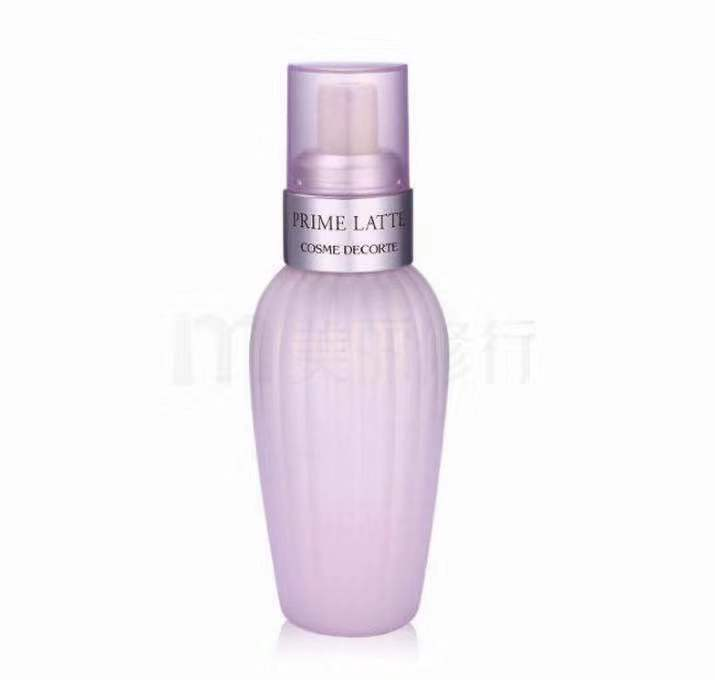cosmetic: (264, 57, 443, 642)
